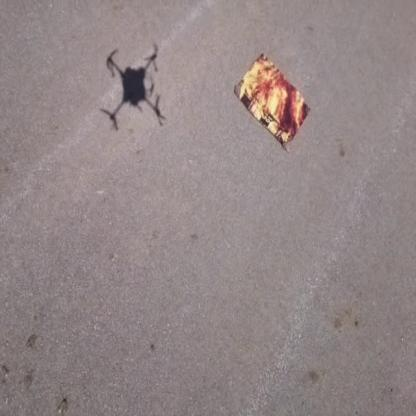fire-poster: (232, 51, 311, 154)
